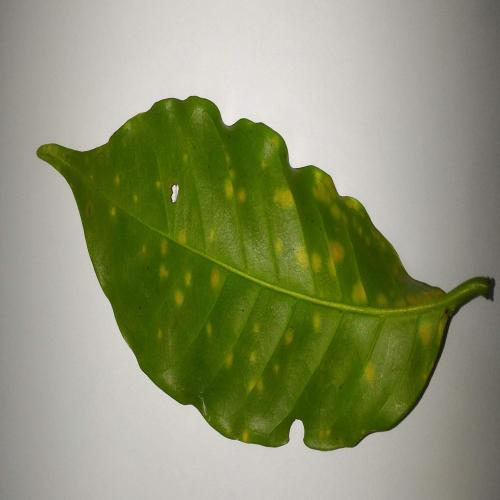phoma: (273, 138, 277, 146)
